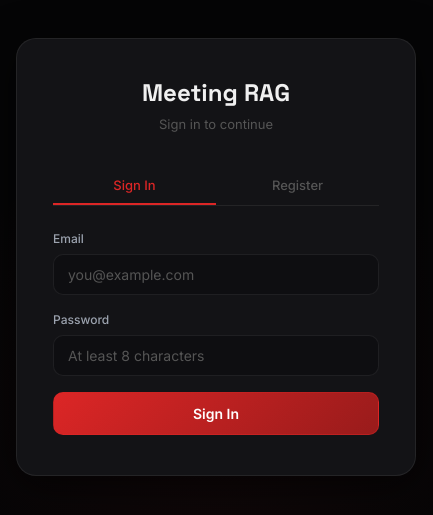
Test: AuthPage › shows email error for empty submission
Step 1. Click the button "Sign In" below "Password" → (216, 413), box [53,392,379,435]
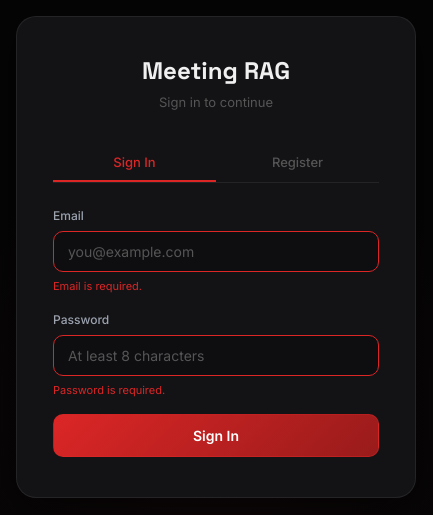
Now the text "Email is required." is shown, box [53,279,142,293]
